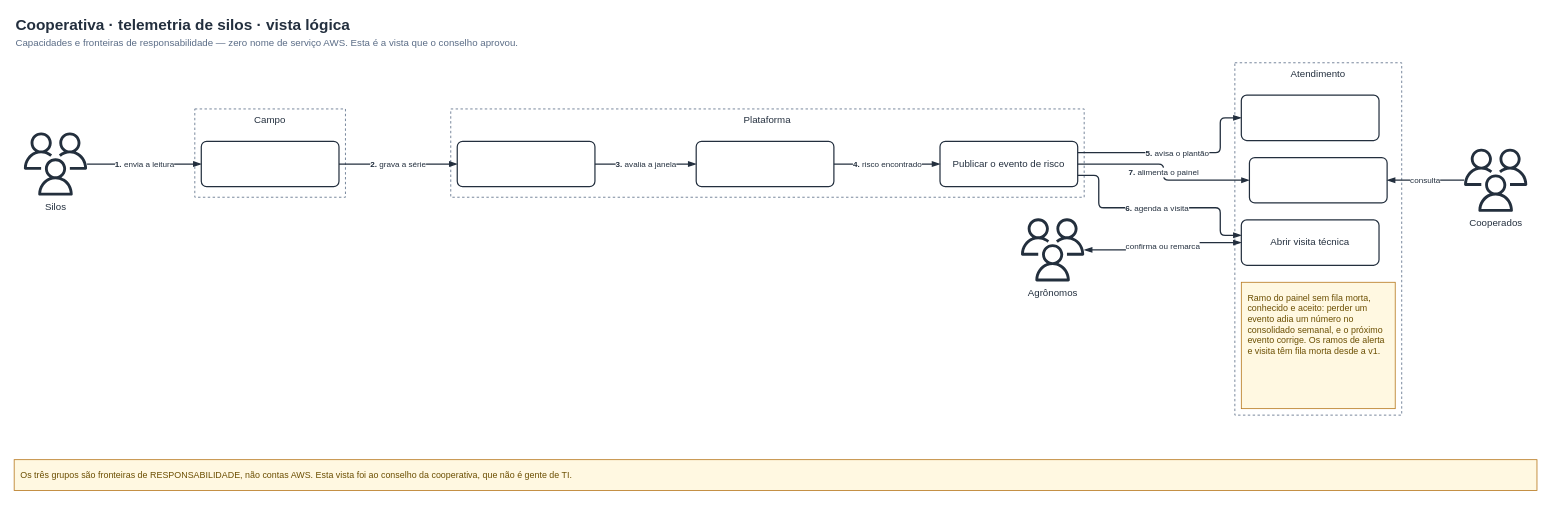
Image size: 1551x505. Some labels were removed from this diagram. Here are the shapes that lost their labels. From the top down, the centre of each, then its label:
the point at 1309,117: Alertar o técnico
the point at 269,163: Receber leitura
the point at 525,163: Guardar a série
the point at 764,163: Detectar risco de perda
the point at 1317,180: Painel do cooperado
